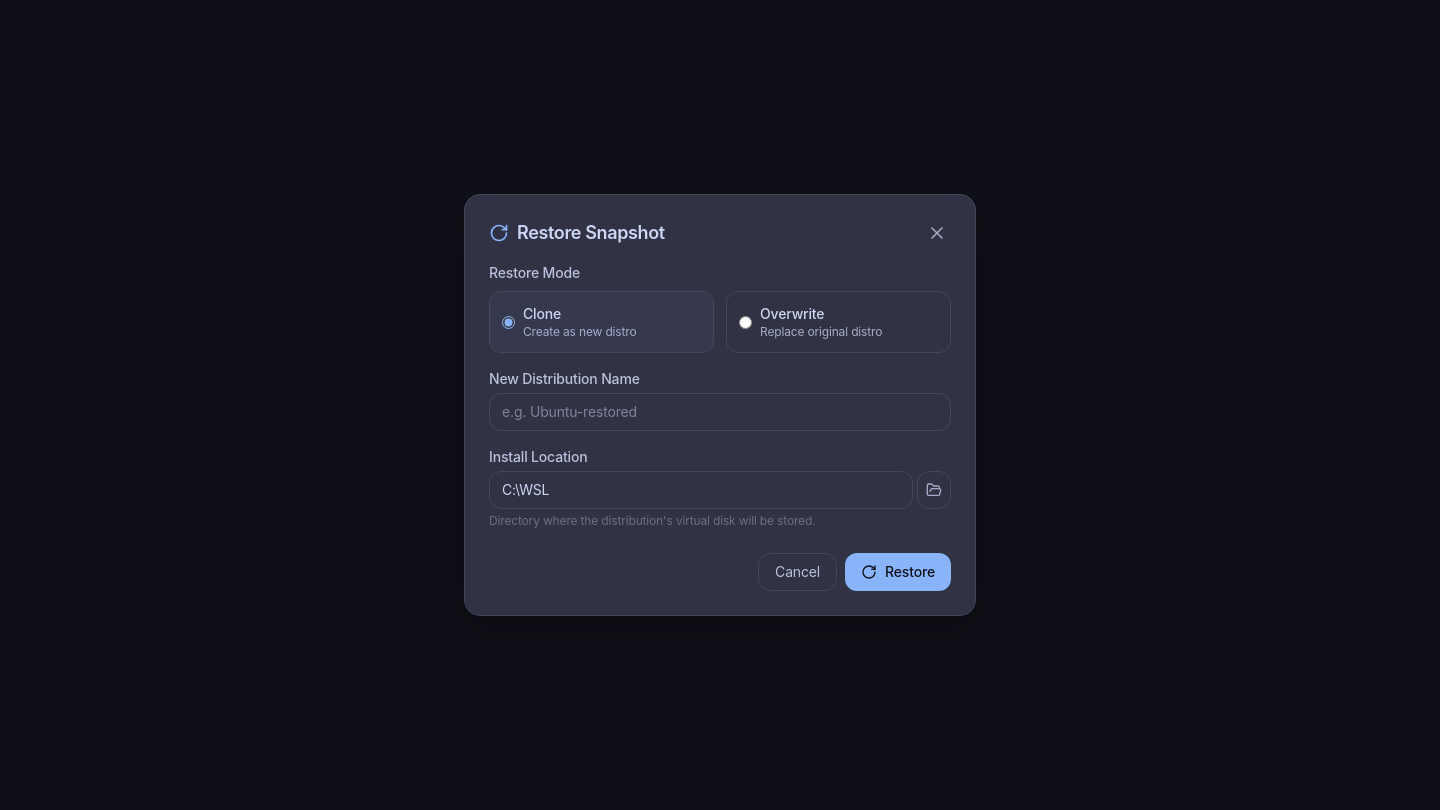
RestoreSnapshotDialog › switches to overwrite mode and renders overwrite form
This screenshot has width=1440, height=810.
What coordinates should you click on to do the following:
click the radio button with test id "restore-mode-overwrite"
I would click on:
 (746, 322)
Its box is 739,316 -> 752,328.
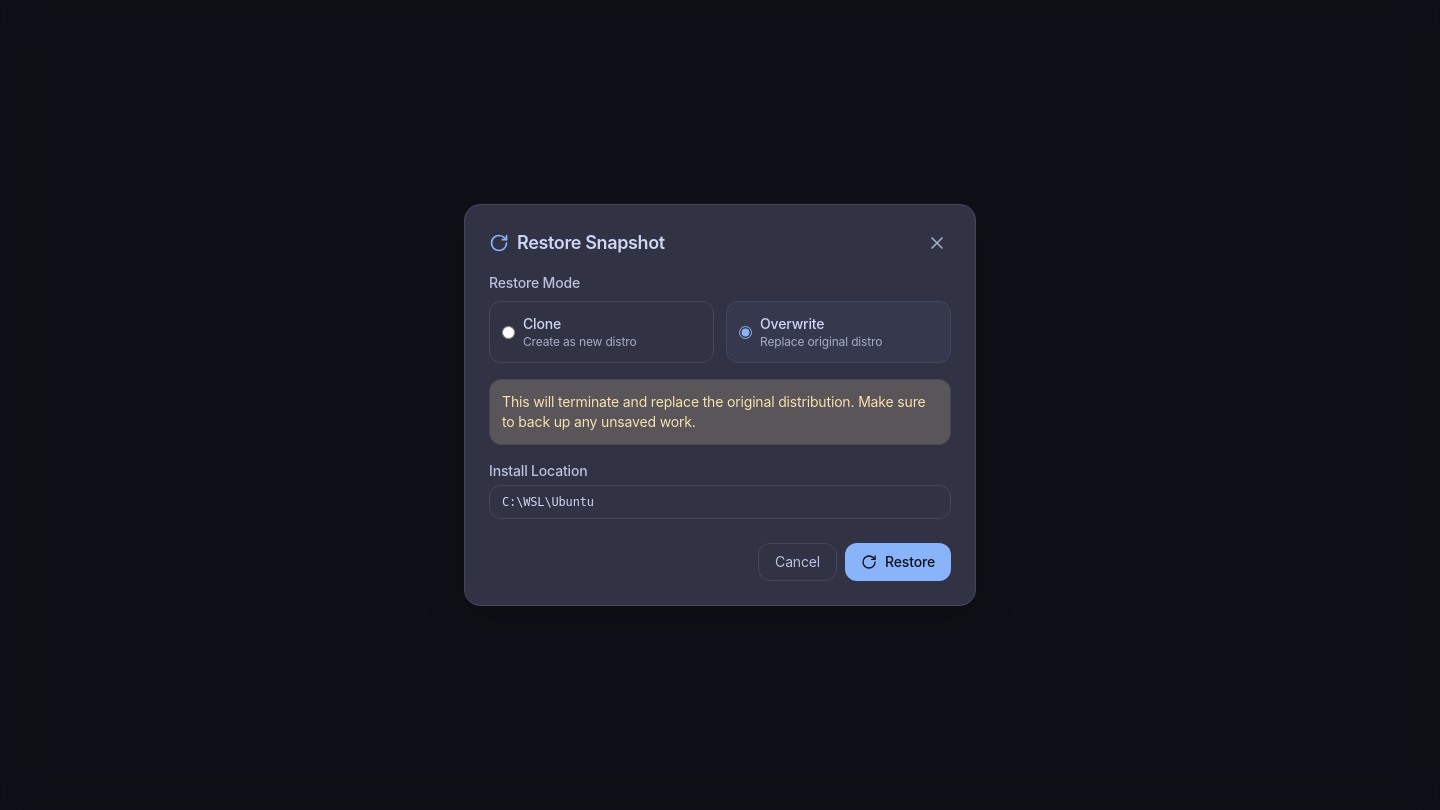
Expected: the field with placeholder "e.g. Ubuntu-restored" is not shown
Expected: the text "This will terminate and replace" is shown, 502,393 -> 926,430
